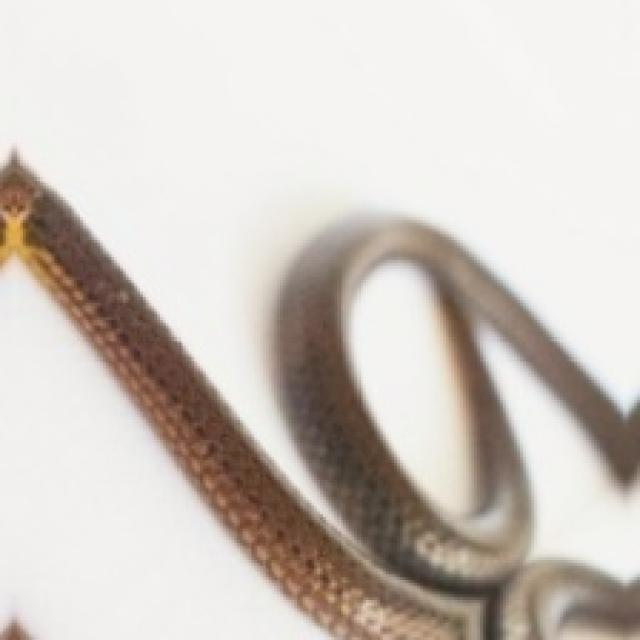gervais worm snake: (0, 154, 637, 637)
